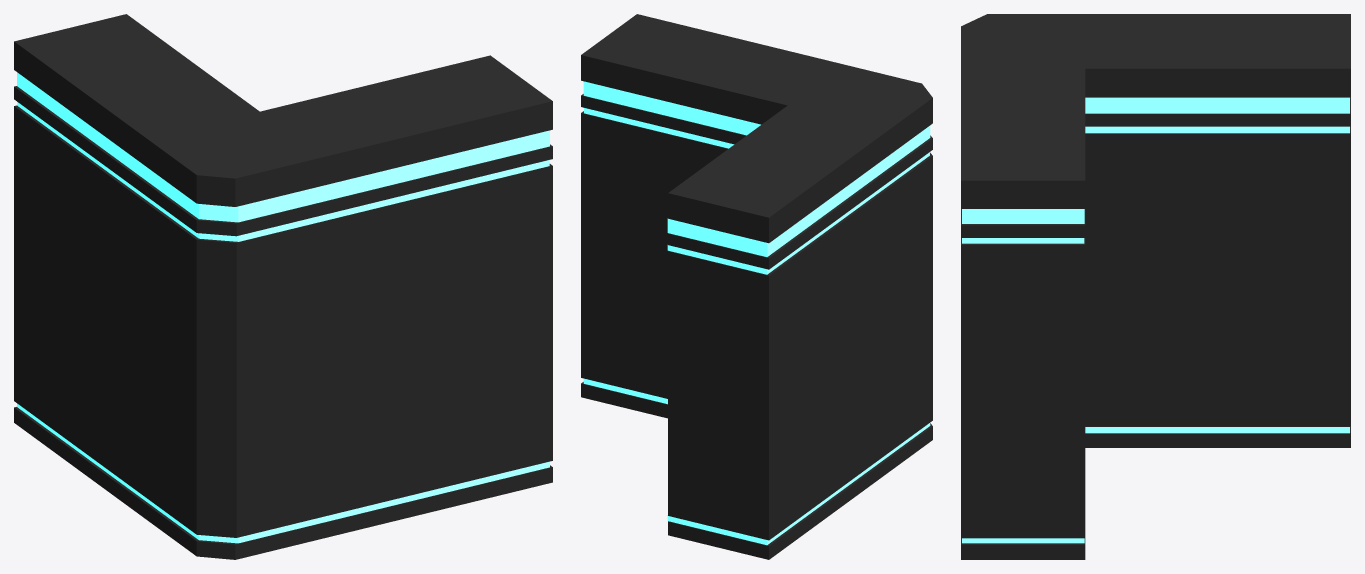
File: Ledge.fbx
3 views of the same model, side by side, from view 1: azimuth 30°, elevation 25°; view 2: azimuth 150°, elevation 25°; view 3: azimuth 270°, elevation 25° (orthographic). The views are drawn at different scales.
Visible parts, largest first — view 1: Ledge; view 2: Ledge; view 3: Ledge.
Part boxes in pixels (bbox=[...]): Ledge: bbox=[14, 14, 552, 559]; Ledge: bbox=[581, 14, 932, 559]; Ledge: bbox=[961, 14, 1350, 559].
Bounding box in the file's own units: 616 × 609 × 654.
